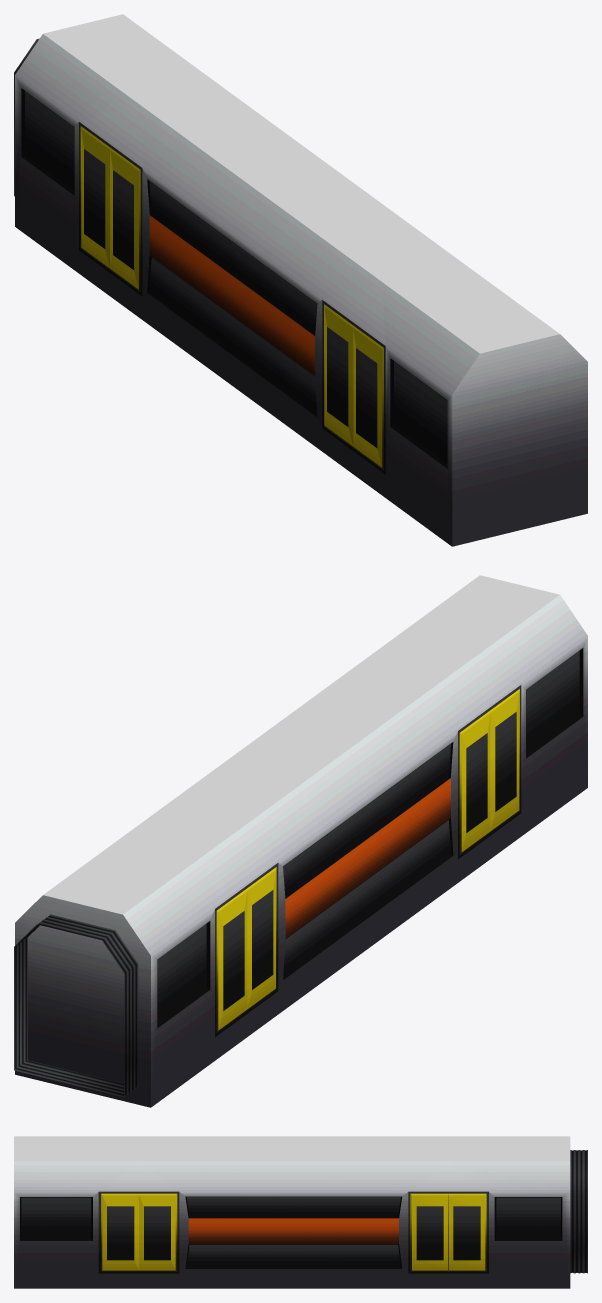
The model's file is Carriage.fbx.
3 views of the same model, one above another, from view 1: azimuth 30°, elevation 25°; view 2: azimuth 150°, elevation 25°; view 3: azimuth 270°, elevation 25° (orthographic). The views are drawn at different scales.
Parts seen in each view (by area): view 1: Carriage; view 2: Carriage; view 3: Carriage.
Boxes of the visible parts, x1,y1,x2,y2 form: Carriage: (14, 14, 587, 546); Carriage: (14, 575, 587, 1107); Carriage: (14, 1136, 587, 1288).
Bounding box in the file's own units: 6.42 × 8.21 × 36.01.
